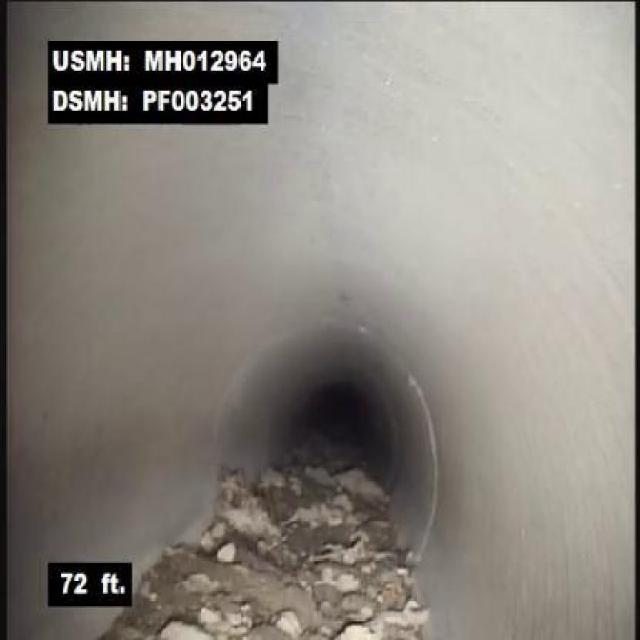Debris: (131, 416, 503, 638)
